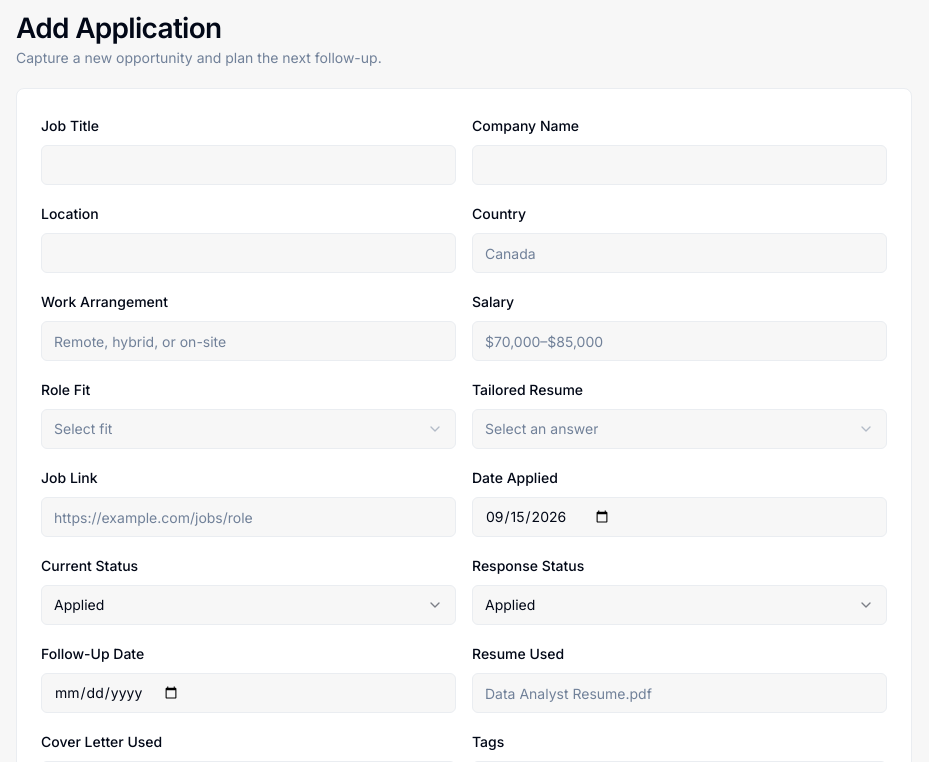
it: ApplicationForm › offers canonical response-status labels in the form select
Click the dropdown named "Response Status": (510, 604) [472,585,887,625]
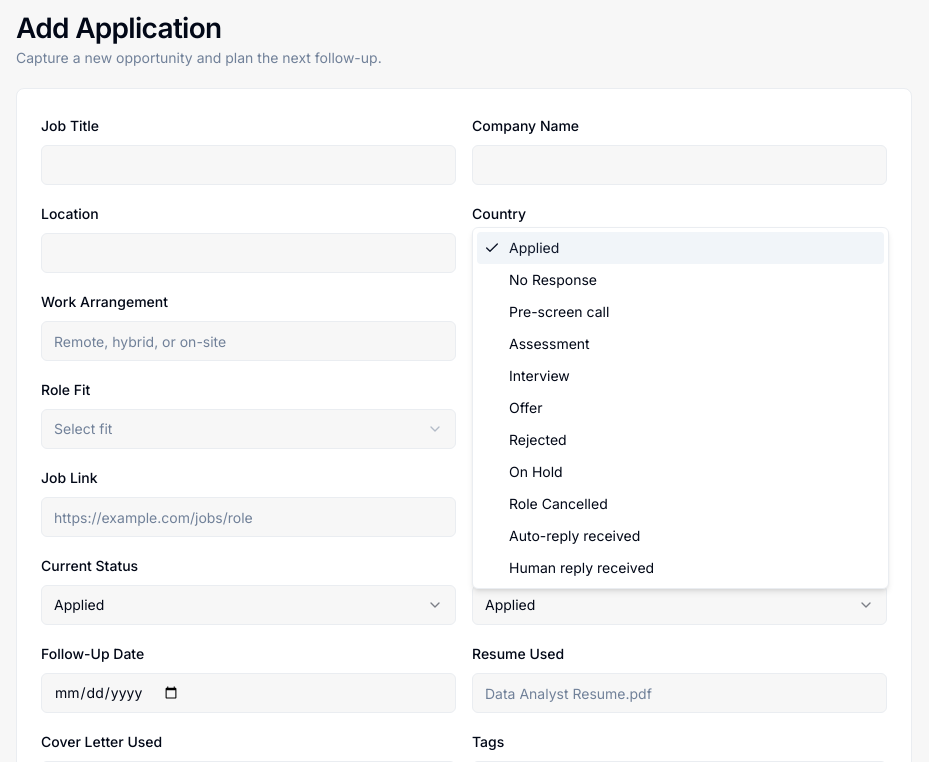
expect the option "Applied" is shown: met, box [477,232,884,264]
expect the option "No Response" is shown: met, box [509,271,597,288]
expect the option "Offer" is shown: met, box [509,399,542,416]
